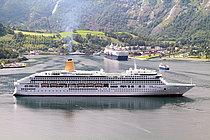Ship: (12, 59, 201, 103)
